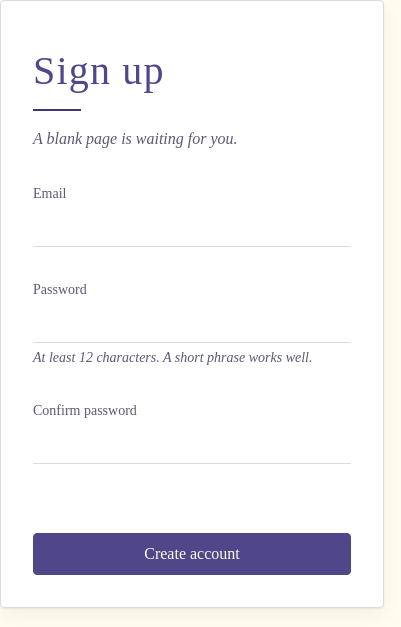
Test: SignupForm › flags only the fields an error is about
The image size is (401, 627).
In the field labelled "Email": (192, 227) [33, 208, 351, 246], type "orphee@example.test"
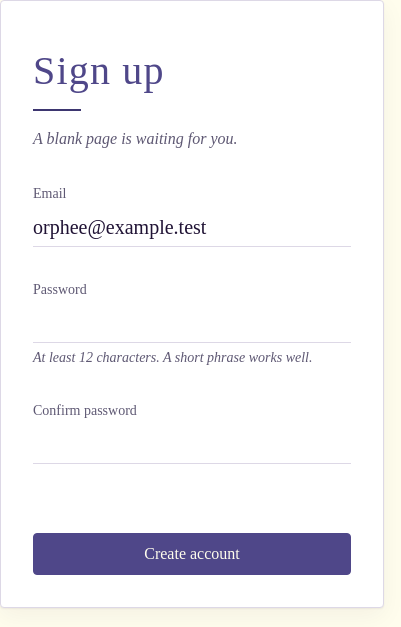
In the password field labelled "Password": (192, 323) [33, 304, 351, 342], type "eurydice"
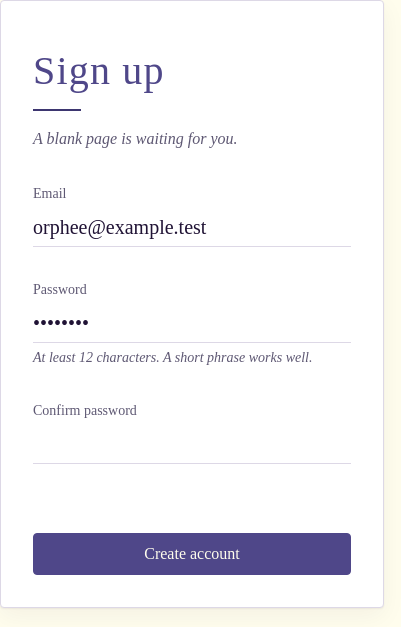
In the password field labelled "Confirm password": (192, 444) [33, 424, 351, 464], type "eurydice"
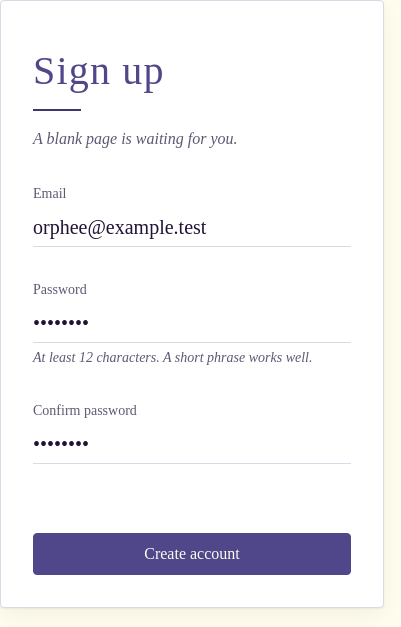
Submit the form named "Create account"
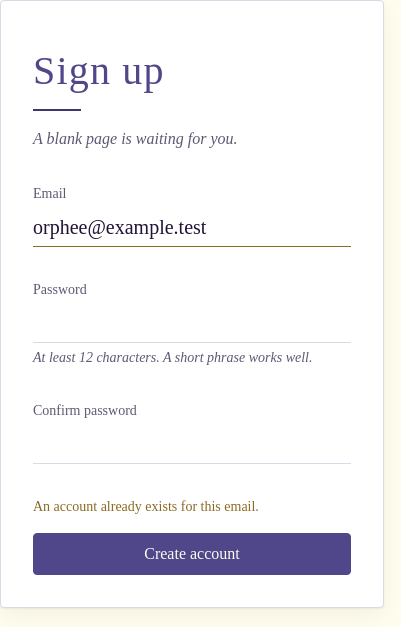
Expected: the message reads "An account already exists for this email.", [33, 498, 259, 514]
